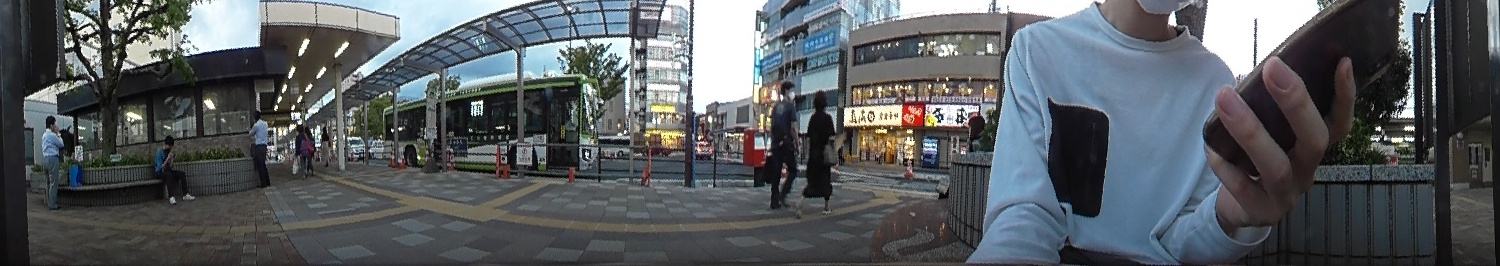difficult_person: (293, 124, 313, 166), (315, 126, 334, 160)
person: (766, 80, 799, 209), (803, 90, 837, 210), (36, 113, 70, 207), (153, 135, 194, 202), (247, 112, 275, 186)
